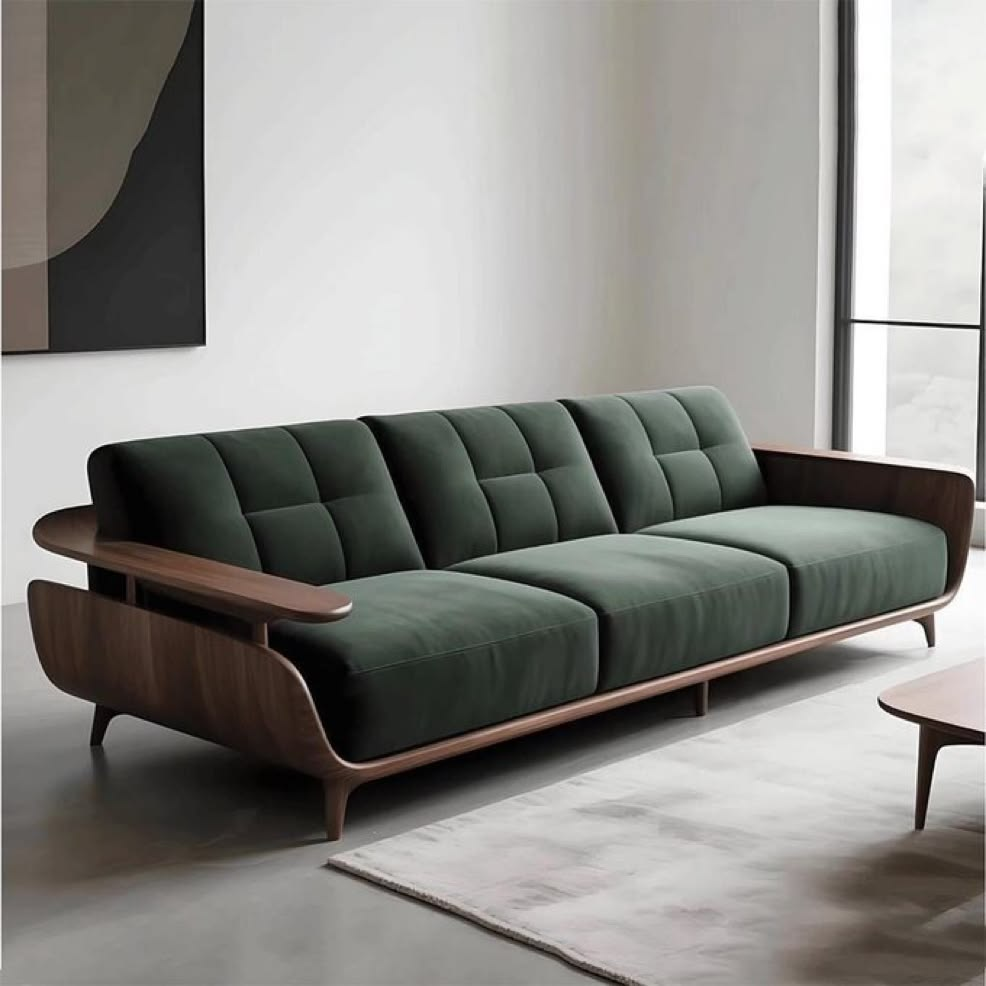3seatersofa: (29, 386, 973, 839)
backrest: (89, 387, 768, 584)
base: (30, 532, 972, 788), (34, 506, 351, 631), (754, 443, 972, 540)
leftarmrest: (754, 445, 970, 518)
leg: (90, 705, 117, 746), (915, 616, 933, 646), (694, 681, 708, 715), (327, 787, 338, 830)
rightarmrest: (33, 506, 352, 642)
seat: (272, 507, 946, 760)
